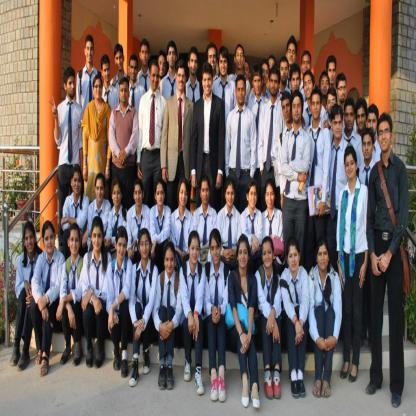face: (379, 125, 392, 151), (289, 247, 300, 271), (318, 249, 329, 271), (346, 157, 357, 179), (190, 240, 200, 264), (264, 244, 274, 268), (45, 230, 55, 253), (212, 241, 222, 264), (304, 76, 314, 99), (26, 231, 36, 253), (70, 233, 80, 255), (293, 100, 303, 122), (345, 109, 355, 131), (364, 137, 374, 159), (93, 231, 103, 252), (368, 115, 378, 136), (151, 67, 160, 90), (165, 253, 175, 273), (333, 118, 343, 138), (267, 187, 276, 209), (239, 246, 248, 268), (237, 82, 246, 104), (312, 97, 321, 119), (118, 241, 128, 260), (180, 186, 189, 207), (209, 51, 218, 72), (141, 238, 150, 258), (270, 75, 279, 95), (302, 58, 311, 78), (328, 96, 337, 116), (357, 112, 367, 130), (283, 101, 291, 123), (249, 189, 258, 208), (190, 55, 198, 76), (227, 188, 236, 206), (67, 79, 76, 97), (95, 82, 104, 100), (204, 76, 213, 94), (97, 181, 105, 201), (202, 183, 210, 203), (178, 71, 186, 91), (130, 62, 138, 81), (220, 57, 228, 76), (322, 78, 330, 97), (339, 83, 347, 102), (73, 175, 81, 193), (114, 188, 122, 206), (135, 187, 143, 205), (157, 188, 165, 206), (121, 85, 129, 103), (141, 47, 149, 65), (254, 77, 262, 95), (281, 65, 289, 83), (288, 47, 296, 65), (103, 66, 111, 83), (292, 75, 300, 92), (159, 58, 166, 77), (87, 45, 94, 63), (169, 48, 176, 66), (237, 52, 244, 70), (243, 65, 250, 83), (262, 67, 269, 85), (329, 65, 336, 83), (117, 54, 124, 71), (269, 62, 276, 79)
